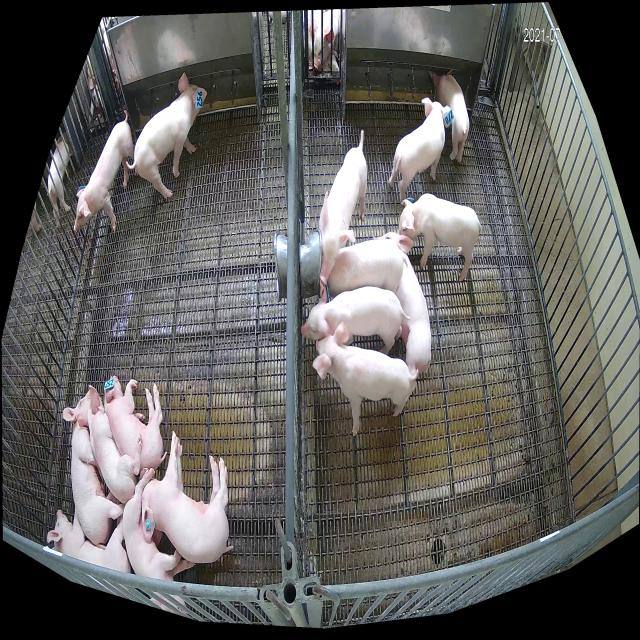pig: (142, 431, 234, 564), (311, 322, 418, 436), (123, 466, 196, 617), (63, 387, 125, 547), (130, 73, 207, 200), (373, 232, 432, 374), (76, 385, 142, 504), (302, 285, 410, 354), (74, 110, 134, 234), (319, 130, 367, 284), (397, 194, 480, 282), (388, 97, 454, 202), (104, 377, 164, 472), (47, 508, 130, 574), (320, 240, 408, 296), (428, 70, 470, 162)
